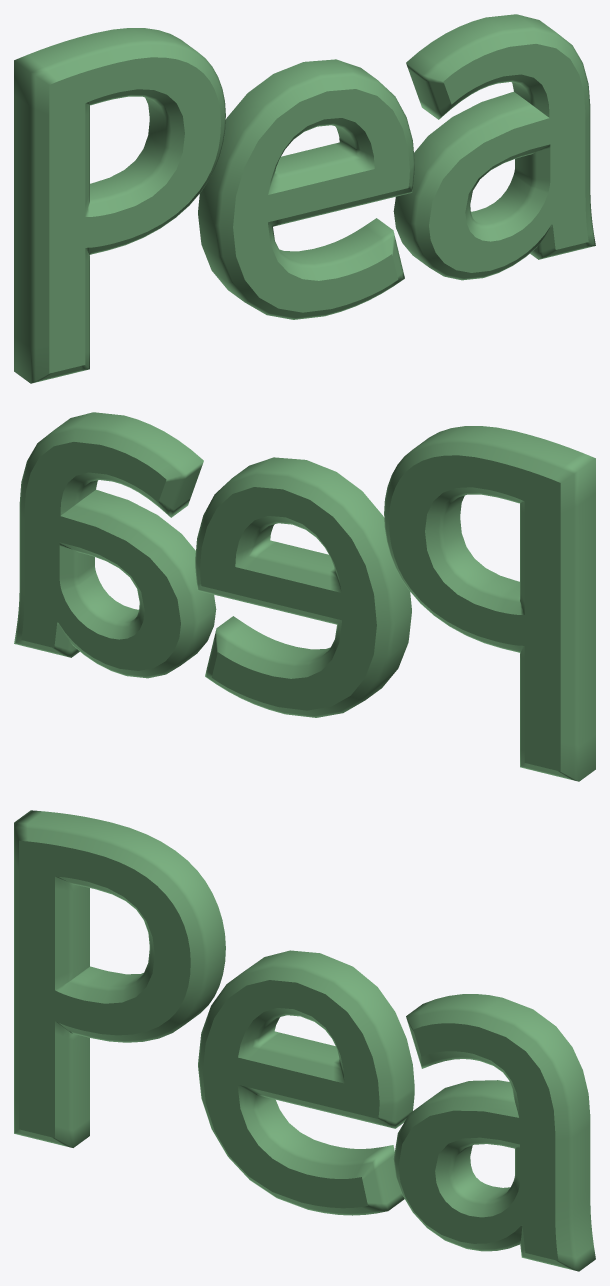
Rendered from Pea.fbx.
The picture shows the model from 3 angles, top to bottom: view 1: azimuth 30°, elevation 25°; view 2: azimuth 150°, elevation 25°; view 3: azimuth 330°, elevation 25°; orthographic projection.
Visible parts, largest first — view 1: bevelPolygon27, bevelPolygon25, bevelPolygon26; view 2: bevelPolygon27, bevelPolygon25, bevelPolygon26; view 3: bevelPolygon27, bevelPolygon26, bevelPolygon25.
Boxes of the visible parts, left/top/right/bottom form: bevelPolygon27: left=14, top=28, right=225, bottom=383; bevelPolygon25: left=393, top=14, right=595, bottom=280; bevelPolygon26: left=198, top=59, right=414, bottom=319; bevelPolygon27: left=384, top=426, right=595, bottom=781; bevelPolygon25: left=14, top=412, right=216, bottom=678; bevelPolygon26: left=195, top=457, right=411, bottom=717; bevelPolygon27: left=14, top=810, right=225, bottom=1147; bevelPolygon26: left=198, top=950, right=414, bottom=1215; bevelPolygon25: left=393, top=994, right=595, bottom=1271.
Size of the model in its own units: 4.85 by 2.65 by 0.45.
